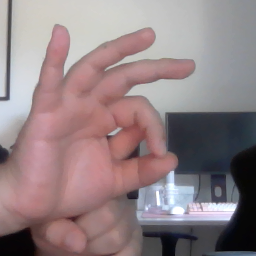OE: (11, 20, 201, 256)
